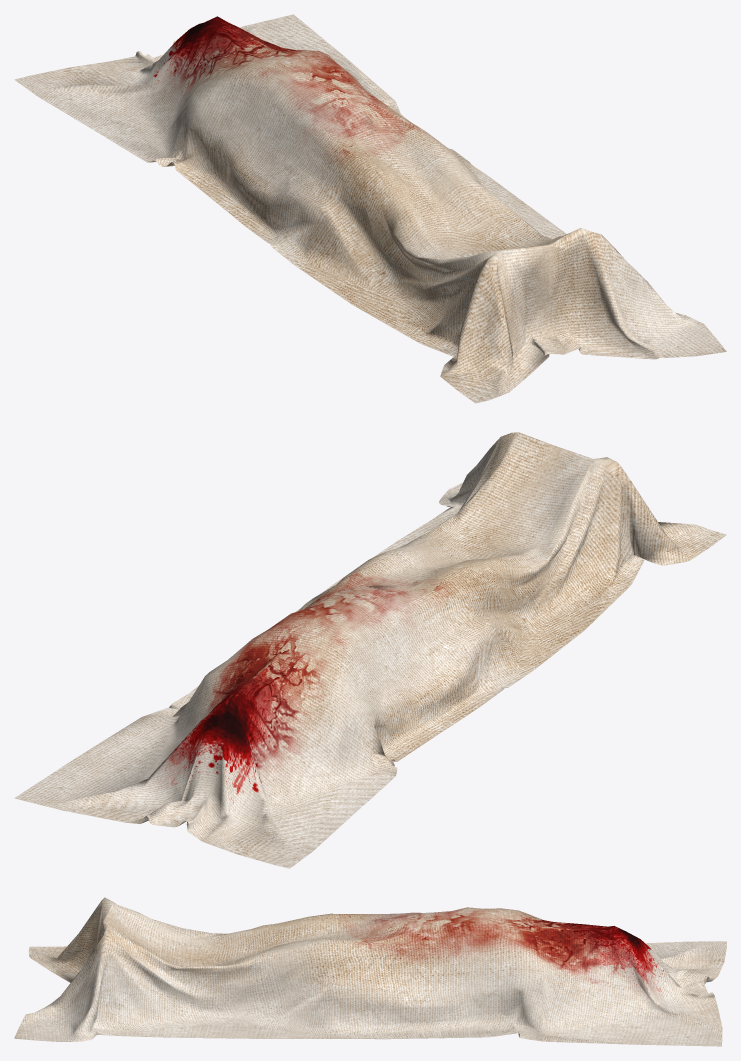
Rendered from SM_Man_under_cloth.FBX.
3 views of the same model, one above another, from view 1: azimuth 30°, elevation 25°; view 2: azimuth 150°, elevation 25°; view 3: azimuth 270°, elevation 25° (orthographic). The views are drawn at different scales.
Parts seen in each view (by area): view 1: SM_Man_under_cloth; view 2: SM_Man_under_cloth; view 3: SM_Man_under_cloth.
Part boxes in pixels (x1,y1,x2,y2): SM_Man_under_cloth: (14, 14, 726, 403); SM_Man_under_cloth: (14, 432, 726, 868); SM_Man_under_cloth: (14, 897, 726, 1046).
Size of the model in its own units: 69.73 by 200 by 24.32.
